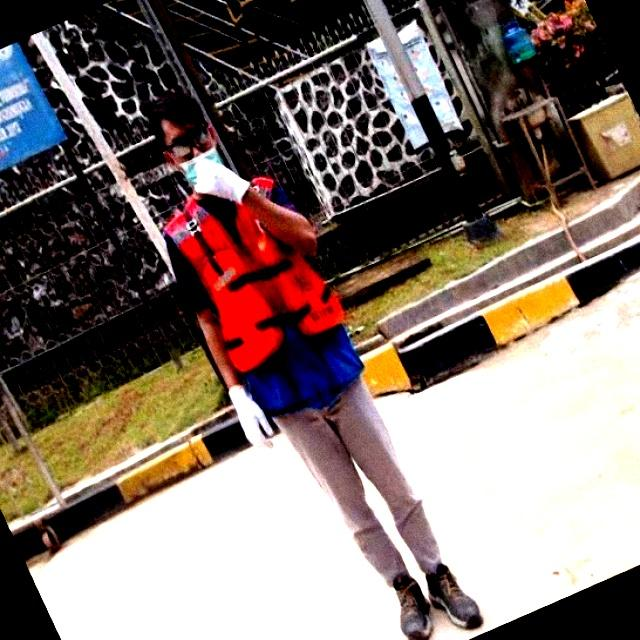Colete: (164, 197, 343, 372)
Pessoa: (146, 92, 482, 637)
